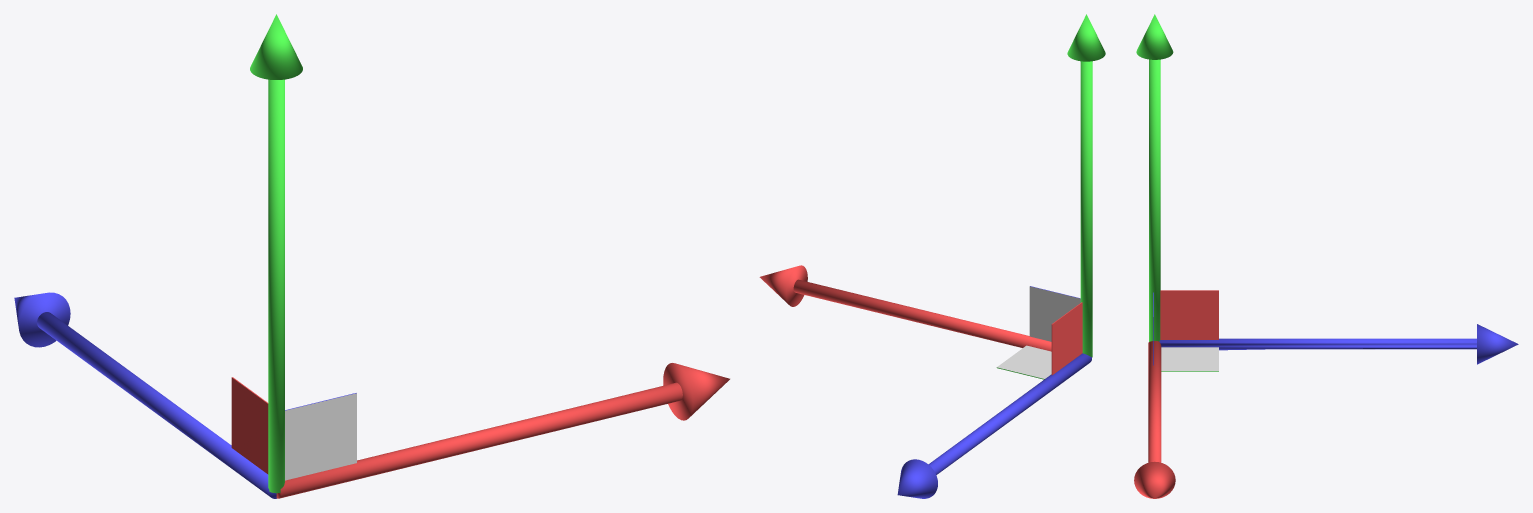
File: axis.fbx
3 views of the same model, side by side, from view 1: azimuth 30°, elevation 25°; view 2: azimuth 150°, elevation 25°; view 3: azimuth 270°, elevation 25° (orthographic). The views are drawn at different scales.
Parts seen in each view (by area): view 1: mesh_Axis; view 2: mesh_Axis; view 3: mesh_Axis.
Boxes of the visible parts, box(x1,y1,x2,y2) form: mesh_Axis: box(14, 14, 729, 498); mesh_Axis: box(759, 14, 1105, 498); mesh_Axis: box(1134, 14, 1518, 498).
Bounding box in the file's own units: 0.7767 × 0.777 × 0.7767.
